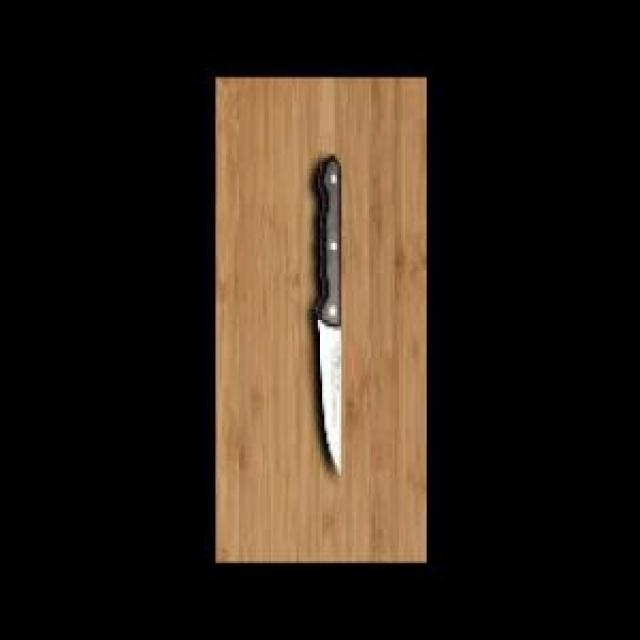knife: (311, 147, 350, 481)
